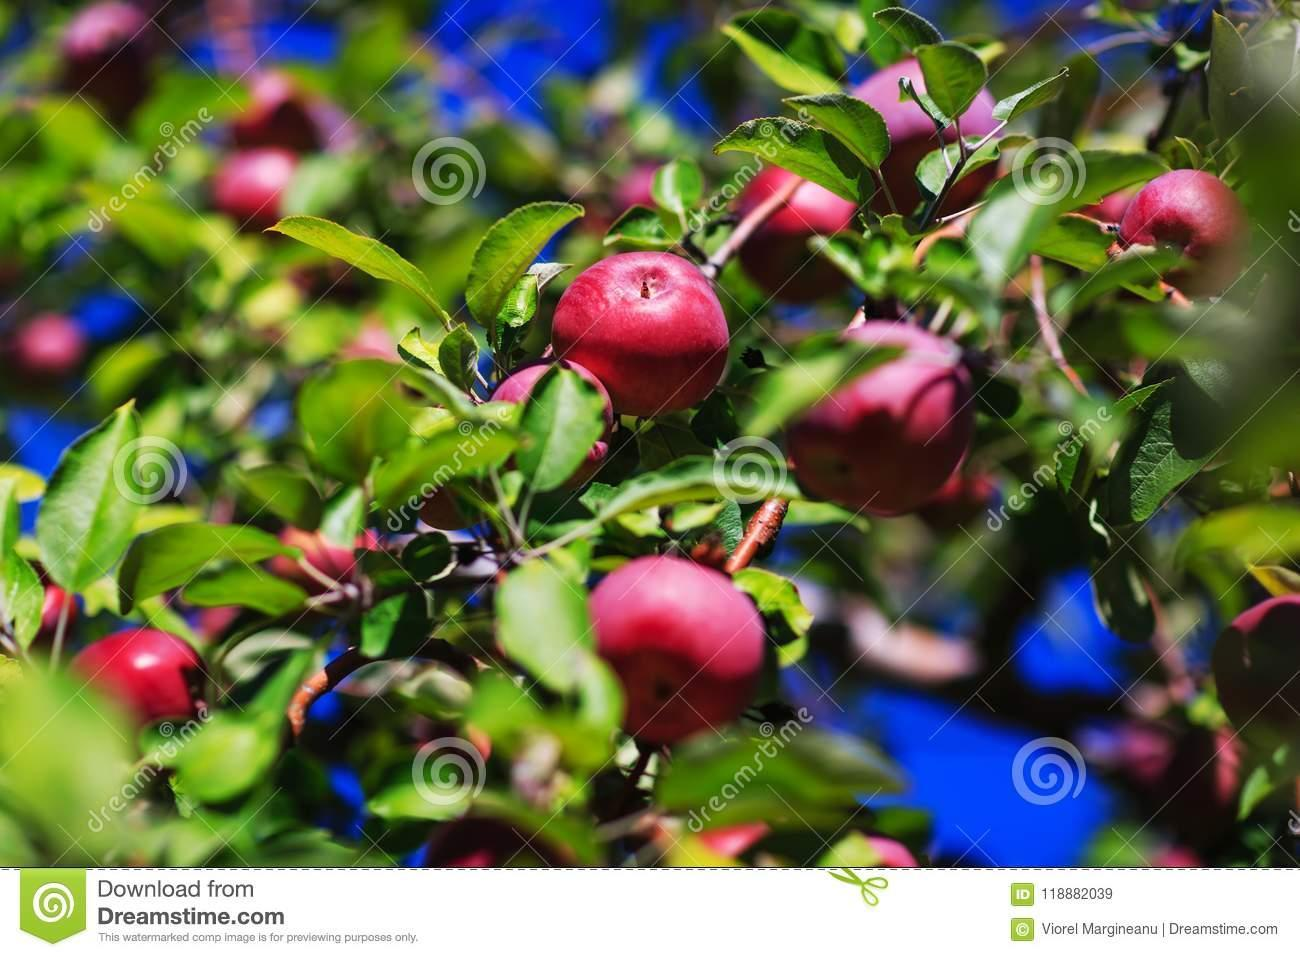apple: (552, 252, 730, 416)
